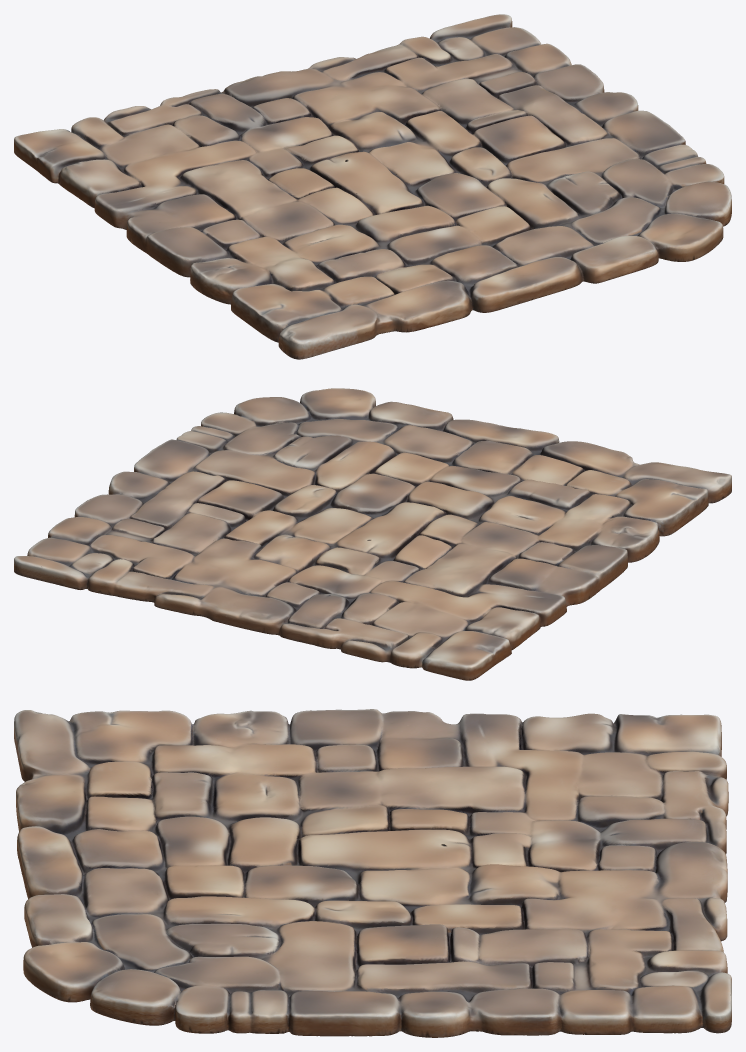
The model's file is Meshy_AI_Stone_flooring_0221052206_texture.glb.
3 renders of one model, top to bottom at view 1: azimuth 30°, elevation 25°; view 2: azimuth 150°, elevation 25°; view 3: azimuth 270°, elevation 25°, orthographic. The views are drawn at different scales.
Size of the model in its own units: 2 by 0.0745 by 1.97.
Materials: 1 (1 with a texture image).
